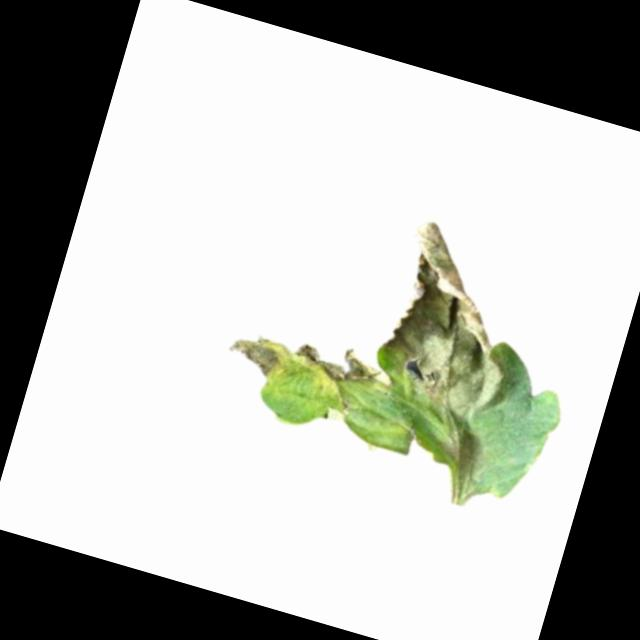Late_blight: (366, 219, 547, 431), (286, 333, 400, 410), (421, 418, 495, 501), (220, 325, 294, 382), (316, 392, 355, 427)
